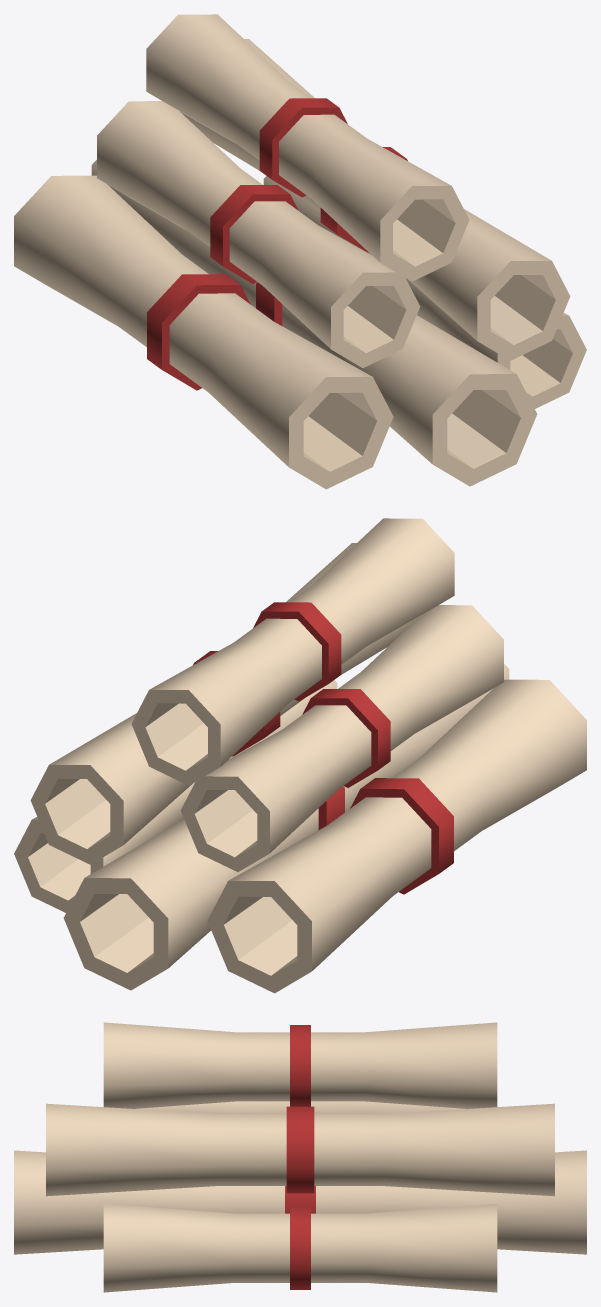
File: SM_scrolls_01.fbx
3 views of the same model, one above another, from view 1: azimuth 30°, elevation 25°; view 2: azimuth 150°, elevation 25°; view 3: azimuth 270°, elevation 25° (orthographic). The views are drawn at different scales.
Parts seen in each view (by area): view 1: Cylinder077; view 2: Cylinder077; view 3: Cylinder077.
Part boxes in pixels (x1=…): Cylinder077: x1=14, y1=14, x2=586, y2=489; Cylinder077: x1=14, y1=518, x2=586, y2=993; Cylinder077: x1=14, y1=1022, x2=586, y2=1292.
Size of the model in its own units: 15.72 by 12.39 by 29.15.
